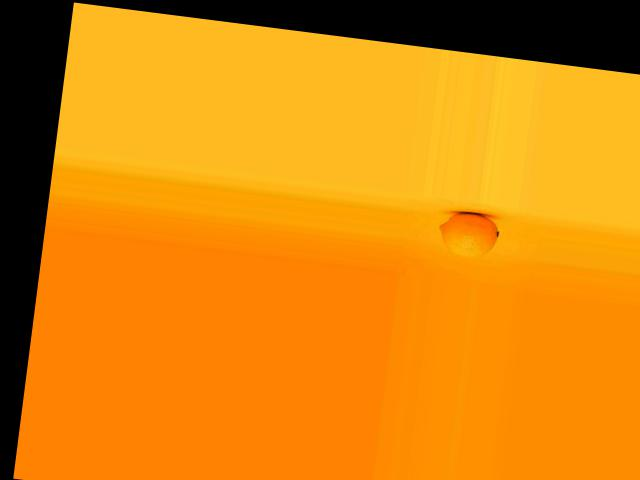lemon: (426, 210, 507, 263)
